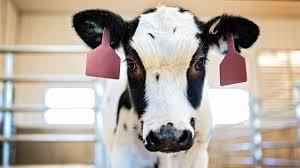cow: (74, 8, 257, 168)
